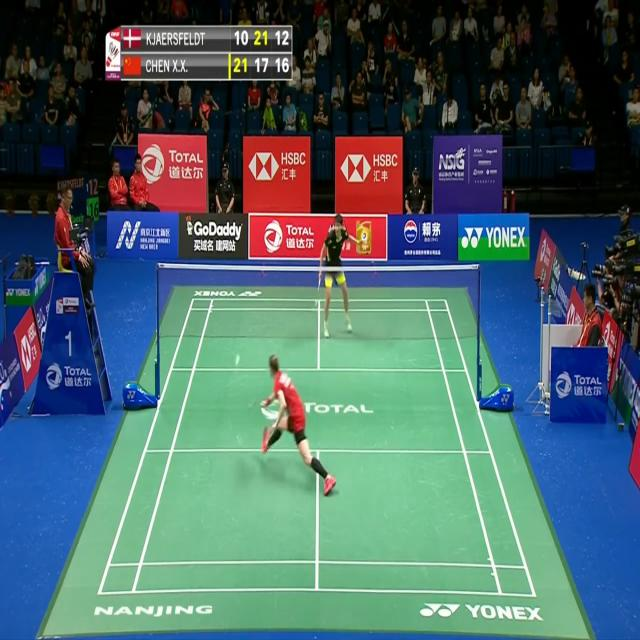Player1: (254, 351, 340, 496)
Player2: (311, 209, 369, 344)
